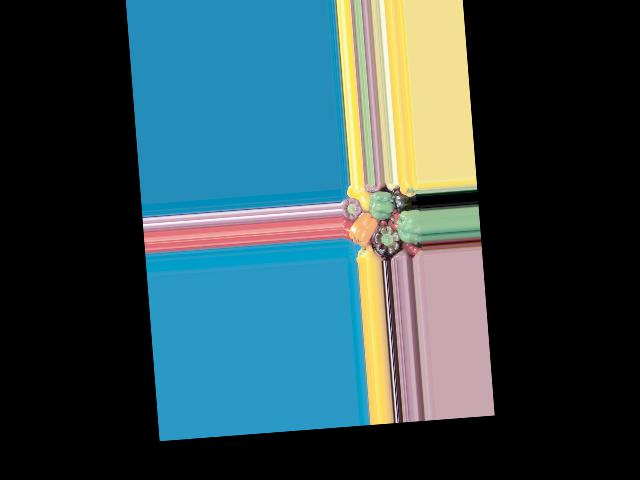bell_pepper: (398, 210, 423, 245)
